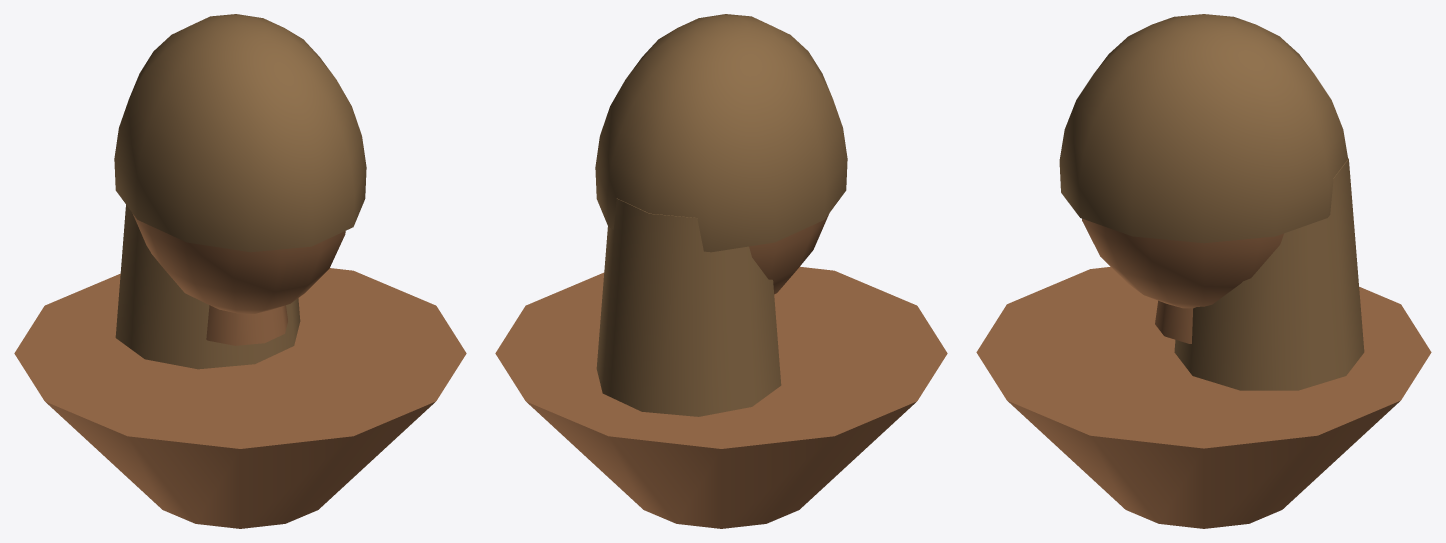
Rendered from portrait09t_003.glb.
3 renders of one model, left to right at view 1: azimuth 30°, elevation 25°; view 2: azimuth 150°, elevation 25°; view 3: azimuth 270°, elevation 25°, orthographic.
Size of the model in its own units: 1.95 by 2.21 by 1.95.
